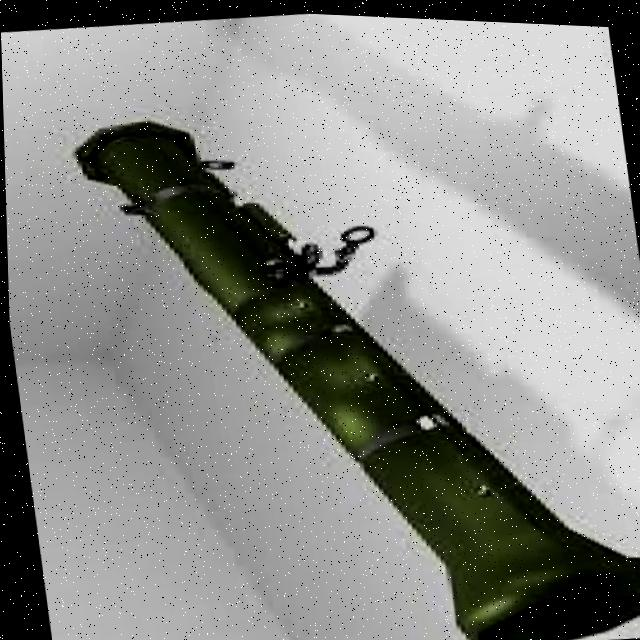rocket: (60, 74, 640, 640)
